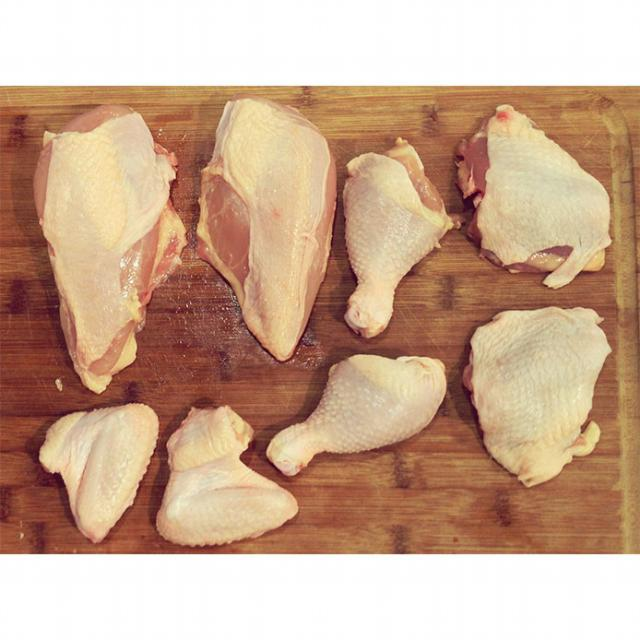chicken: (39, 109, 180, 392), (200, 100, 330, 355), (462, 306, 616, 488), (457, 106, 607, 274), (346, 140, 452, 333), (152, 411, 300, 546), (270, 355, 438, 473), (42, 408, 157, 539)
